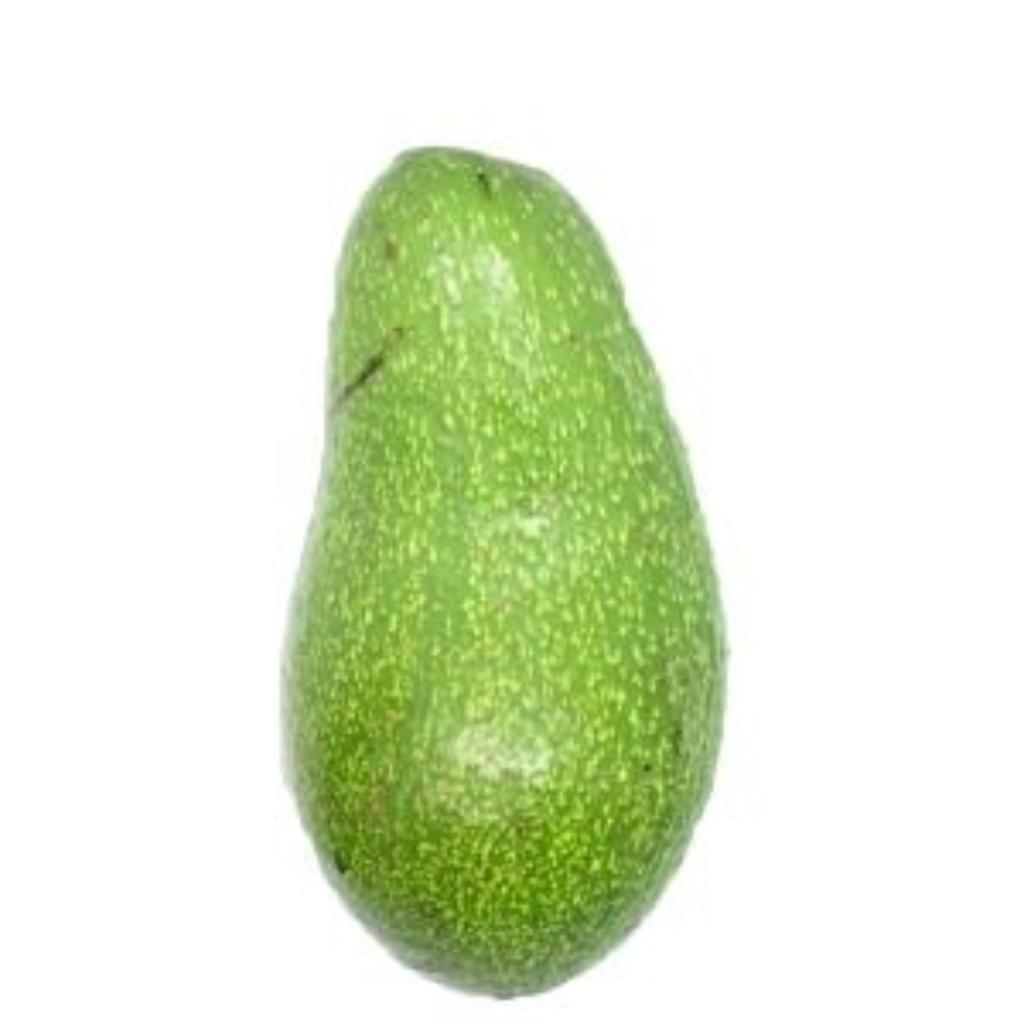cercospora_spot: (270, 137, 748, 1007)
